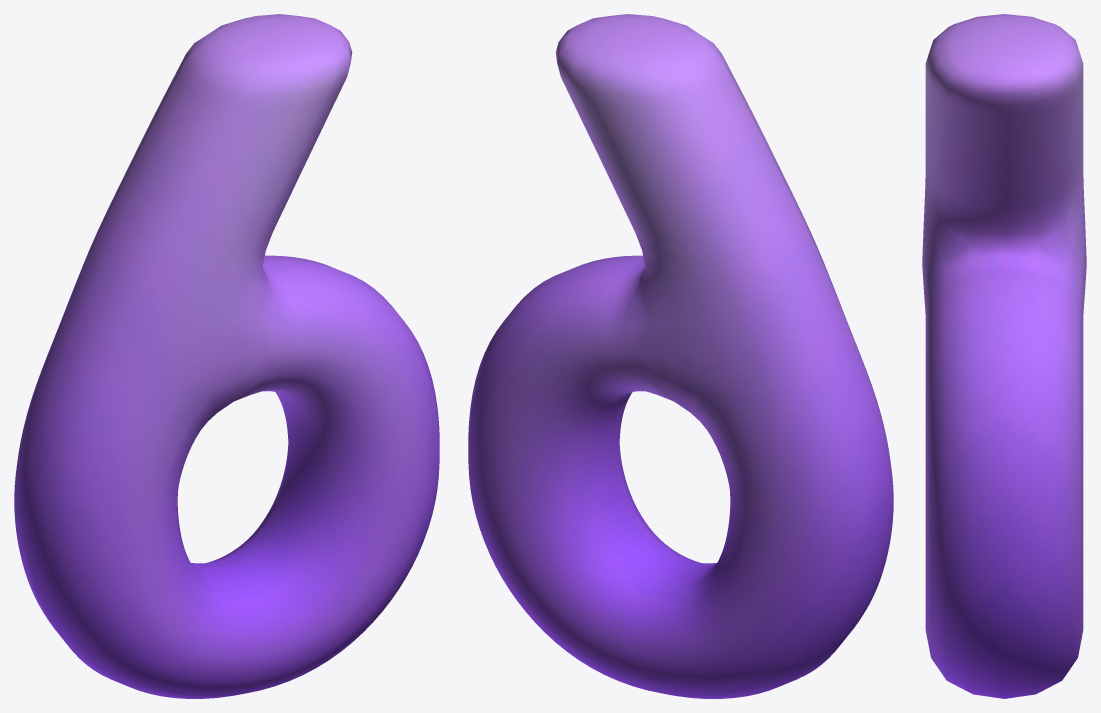
3 renders of one model, left to right at view 1: azimuth 30°, elevation 25°; view 2: azimuth 150°, elevation 25°; view 3: azimuth 270°, elevation 25°, orthographic. The views are drawn at different scales.
Parts seen in each view (by area): view 1: node_id311; view 2: node_id311; view 3: node_id311.
Part boxes in pixels (x1,y1,x2,y2): node_id311: (14,14,439,698); node_id311: (468,14,893,698); node_id311: (922,14,1086,698).
Bounding box in the file's own units: 0.3363 × 0.512 × 0.1153.
1 material, 1 textured.
